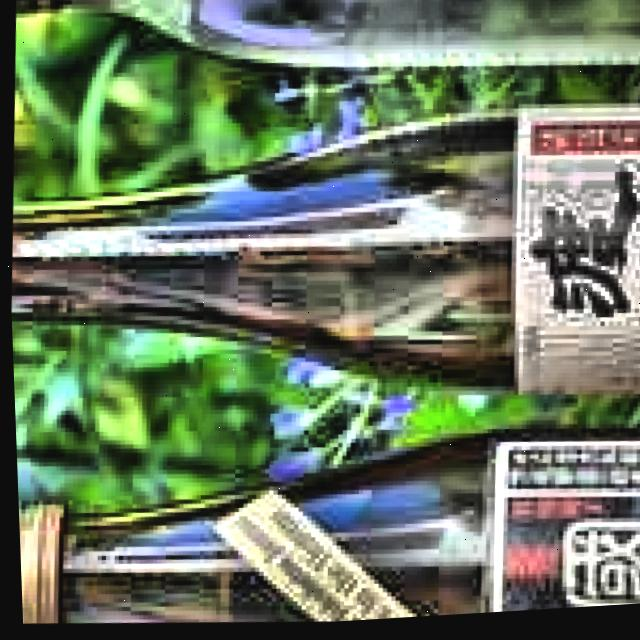glass: (9, 105, 640, 395), (15, 440, 640, 625)
